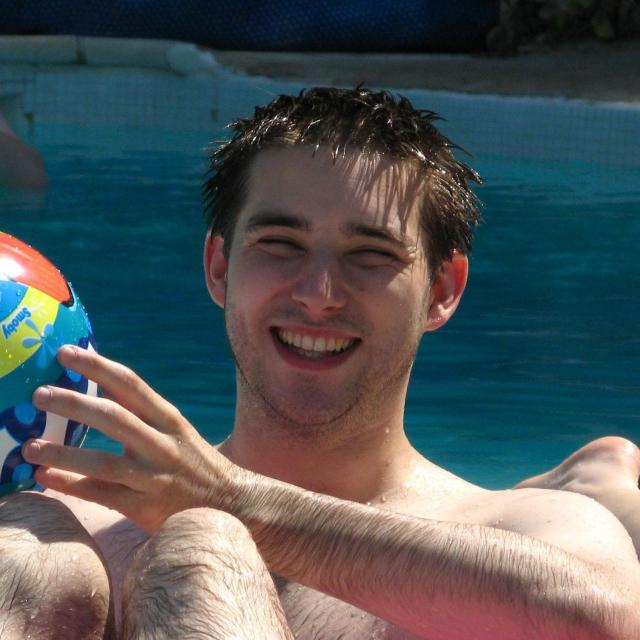no-glass: (247, 236, 411, 264)
